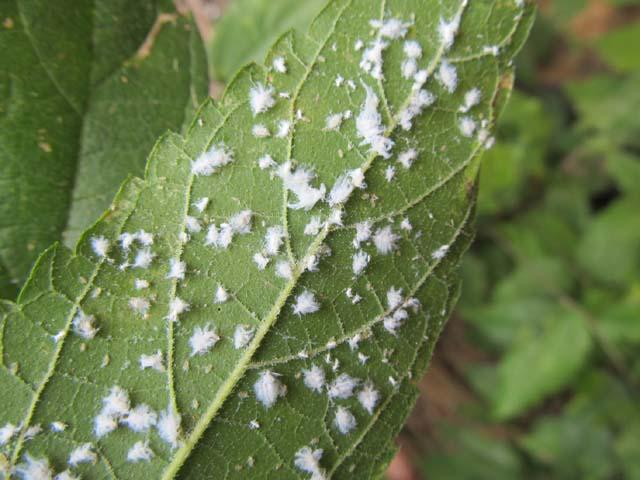pseudococcidae: (0, 5, 535, 479)
